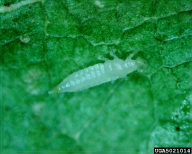Thrips: (46, 51, 146, 98)
